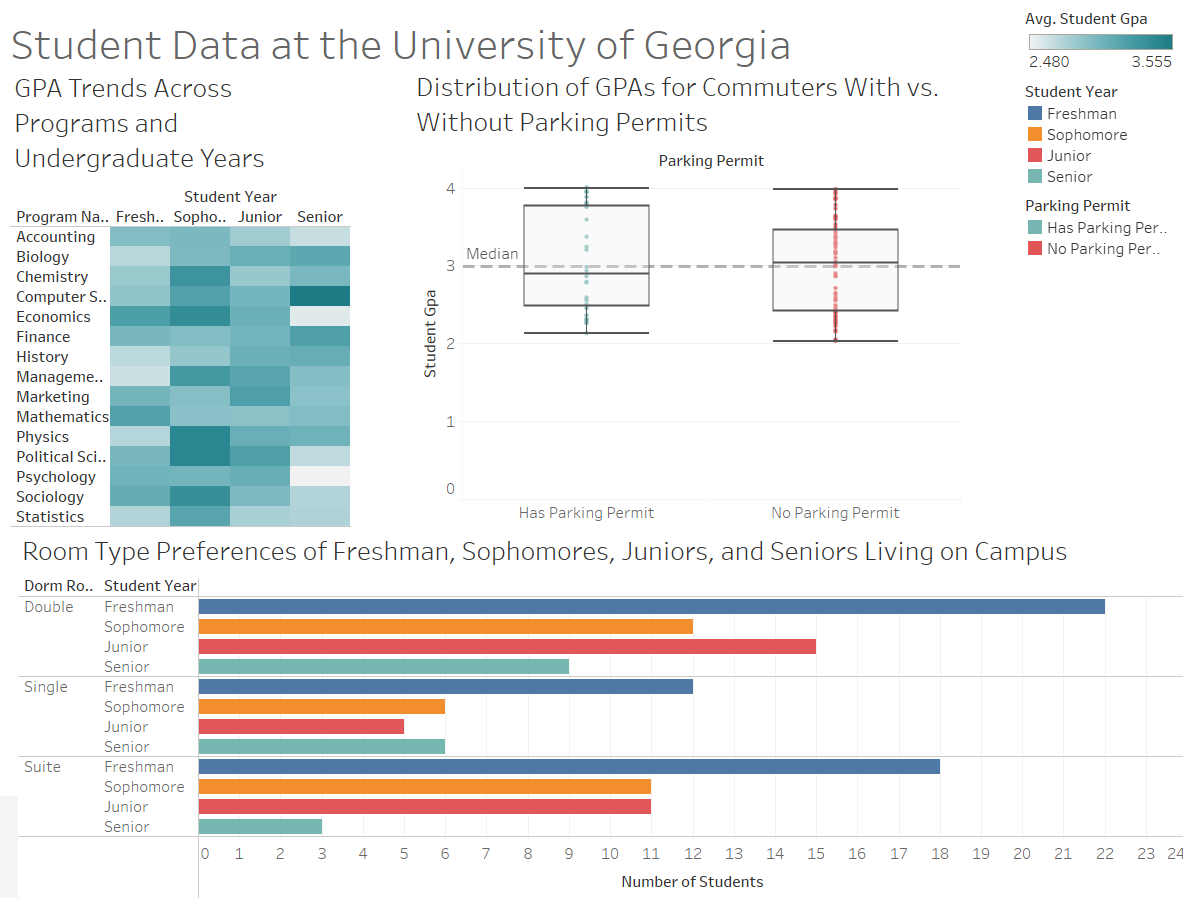

This screenshot's page, from the dashboard's own definition file:
{"tool":"tableau","page":{"name":"Dashboard 1","canvas":[1200,800],"ordinal":0},"visuals":[{"type":"legend","title":"Sheet 4","param":"[federated.0h1w9q11e036bd1cpgv5e16r4ni1].[avg:studentGpa:qk]","box":[1032,8,160,65]},{"type":"worksheet","title":"Sheet 2","mark":"Circle","rows":["studentGpa"],"cols":["Calculation_4810266635582894083"],"box":[423,69,549,459]},{"type":"worksheet","title":"Sheet 4","mark":"Square","rows":["programName"],"cols":["studentYear"],"box":[21,70,388,444]},{"type":"legend","title":"Sheet 3","param":"[federated.17j95fc0xdcm2z13hujze1x3znjw].[none:studentYear:nk]","box":[1032,73,160,106]},{"type":"legend","title":"Sheet 2","param":"[federated.08nbujt0gbwi65199w2qk1r68cjs].[none:Calculation_4810266635582894083:n","box":[1032,179,160,66]},{"type":"worksheet","title":"Sheet 3","mark":"Automatic","rows":["dormRoomType","studentYear"],"cols":["idStudent (Student)"],"box":[29,529,1007,273]}]}

Visuals, with their boxes on the page's 1200x800 design canvas (x1, y1, x2, y2). These are canvas units, not pixel positions in the 1183x898 screenshot, which may show the page scaled, cropped or inside an application window:
"Sheet 4" legend: x1=1032 y1=8 x2=1192 y2=73
"Sheet 2" worksheet (Circle marks): x1=423 y1=69 x2=972 y2=528
"Sheet 4" worksheet (Square marks): x1=21 y1=70 x2=409 y2=514
"Sheet 3" legend: x1=1032 y1=73 x2=1192 y2=179
"Sheet 2" legend: x1=1032 y1=179 x2=1192 y2=245
"Sheet 3" worksheet: x1=29 y1=529 x2=1036 y2=802
